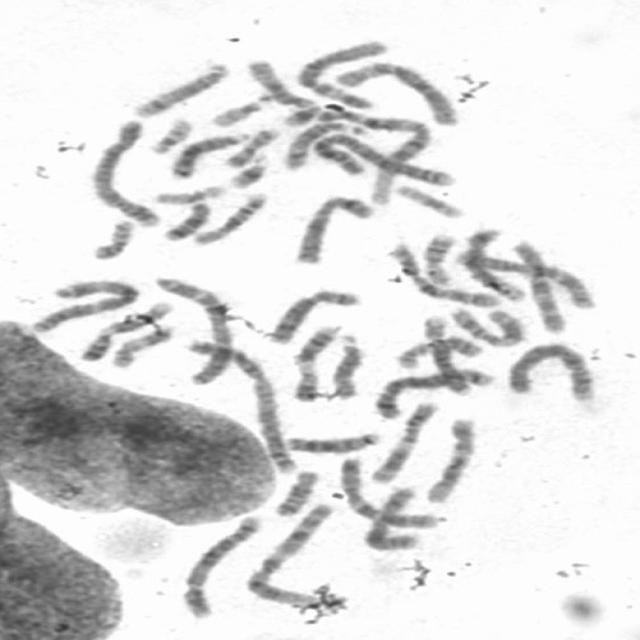A1: (238, 499, 336, 611), (334, 109, 434, 211)
A2: (178, 336, 298, 475), (305, 130, 459, 187)
A3: (150, 272, 238, 386), (24, 275, 144, 334)
B4: (86, 115, 164, 228), (502, 338, 599, 402)
B5: (175, 511, 266, 620), (370, 362, 500, 420)
C10: (380, 239, 504, 309), (506, 236, 571, 334)
C11: (364, 397, 443, 485), (443, 303, 528, 348)
C12: (419, 414, 480, 504), (416, 318, 476, 392)
C6: (330, 58, 461, 126), (291, 36, 391, 110)
C7: (451, 248, 600, 310), (331, 452, 442, 531)
C8: (259, 285, 363, 345), (468, 227, 534, 307)
C9: (77, 297, 176, 363), (288, 322, 341, 403)
D13: (165, 127, 255, 181), (280, 428, 384, 454)
D14: (126, 58, 232, 119), (277, 118, 364, 172)
D15: (240, 56, 321, 110), (324, 331, 366, 402)
E16: (188, 188, 272, 247), (416, 229, 460, 287)
E17: (389, 334, 486, 371), (106, 320, 176, 370)
E18: (267, 465, 322, 518), (157, 199, 213, 242)
F19: (388, 180, 469, 220), (150, 180, 228, 206)
F20: (220, 124, 282, 169), (87, 216, 137, 261)
G21: (224, 151, 272, 190), (277, 101, 323, 127)
G22: (206, 91, 272, 128), (144, 113, 196, 155)
X: (288, 191, 378, 266), (357, 481, 424, 553)
